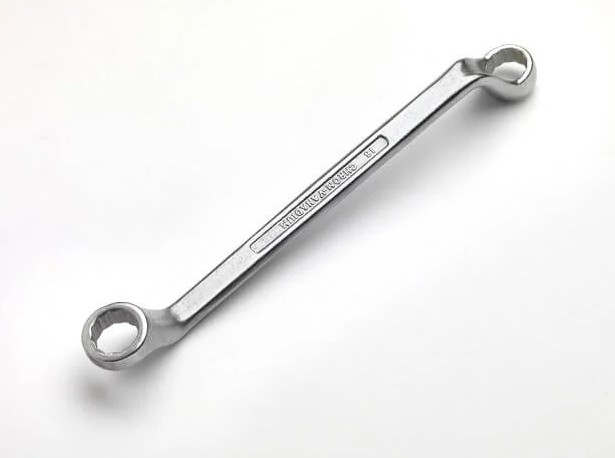chave_de_boca: (75, 35, 539, 376)
